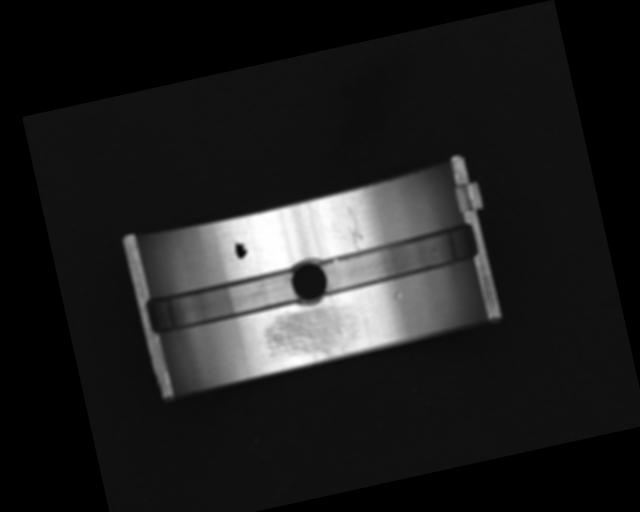blot: (231, 235, 250, 261)
bruise: (391, 290, 403, 301)
gap: (314, 221, 479, 298), (144, 266, 302, 336)
hole: (286, 254, 332, 308)
nick: (342, 202, 366, 252)
scratch: (259, 298, 366, 370)
